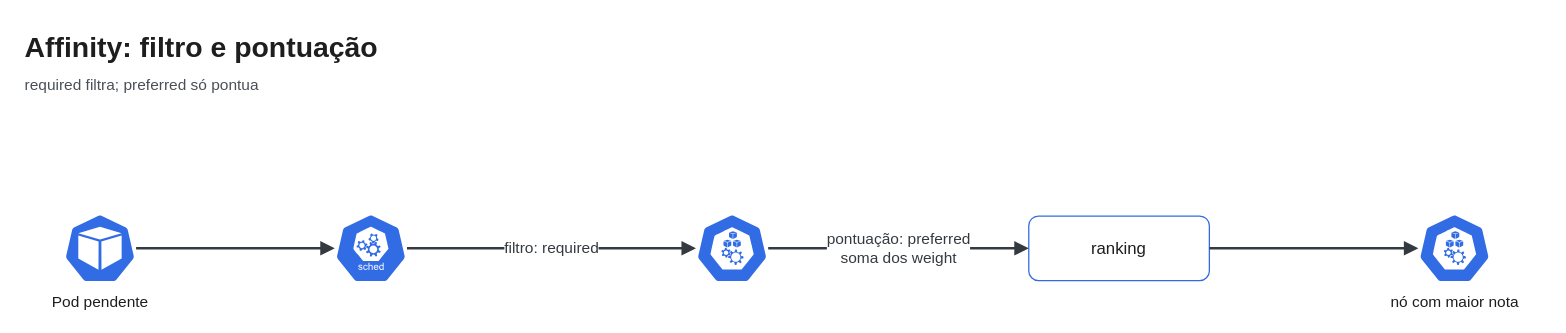
This 1566x333 diagram has some shape labels left out. Here are the shapes that lost their labels. From the top down, the box of each, then its label:
(333, 211, 407, 284): kube-scheduler
(695, 211, 768, 284): nós possíveis
